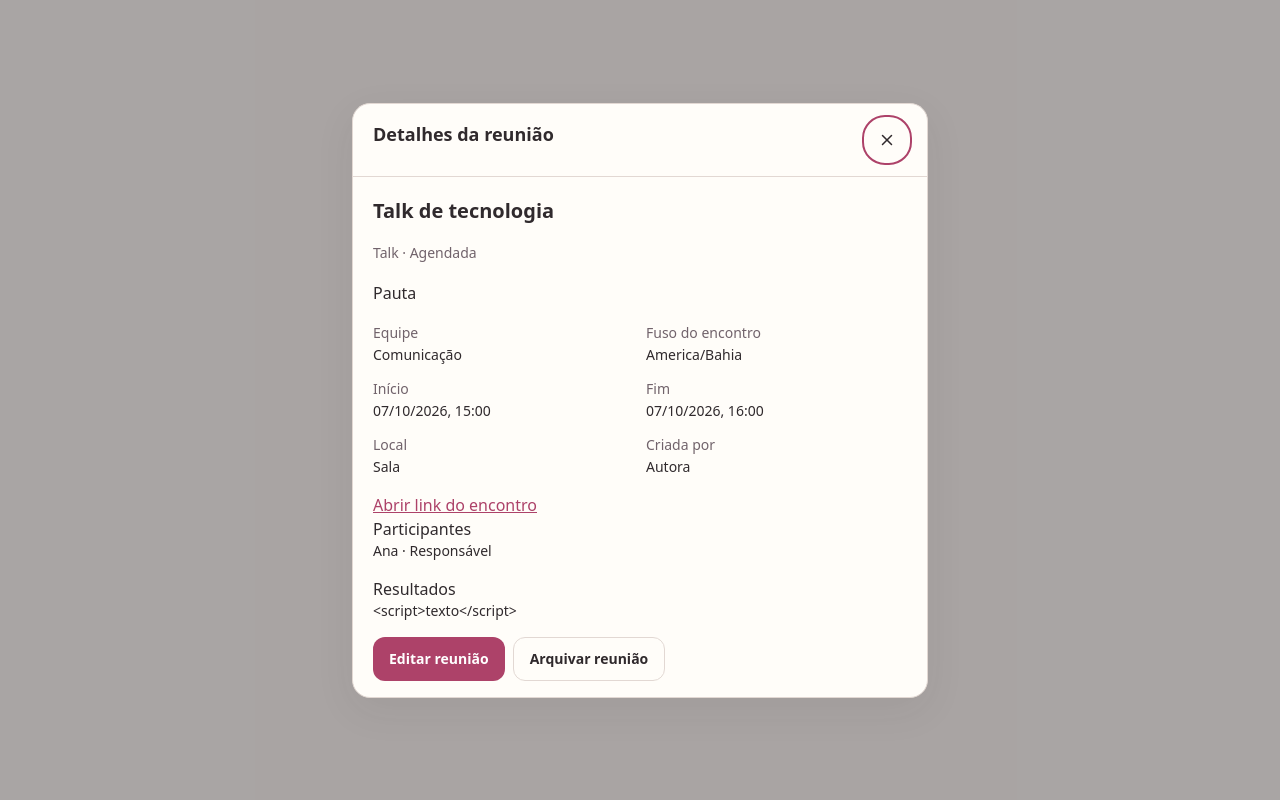
Test: conflito preserva formulário e resultado textual não vira HTML
Expected: the text "<script>texto</script>" is shown, [373,600,517,620]
Click the button "Editar reunião". click: (439, 658)
box: [373,636,505,680]
(page scrolled)
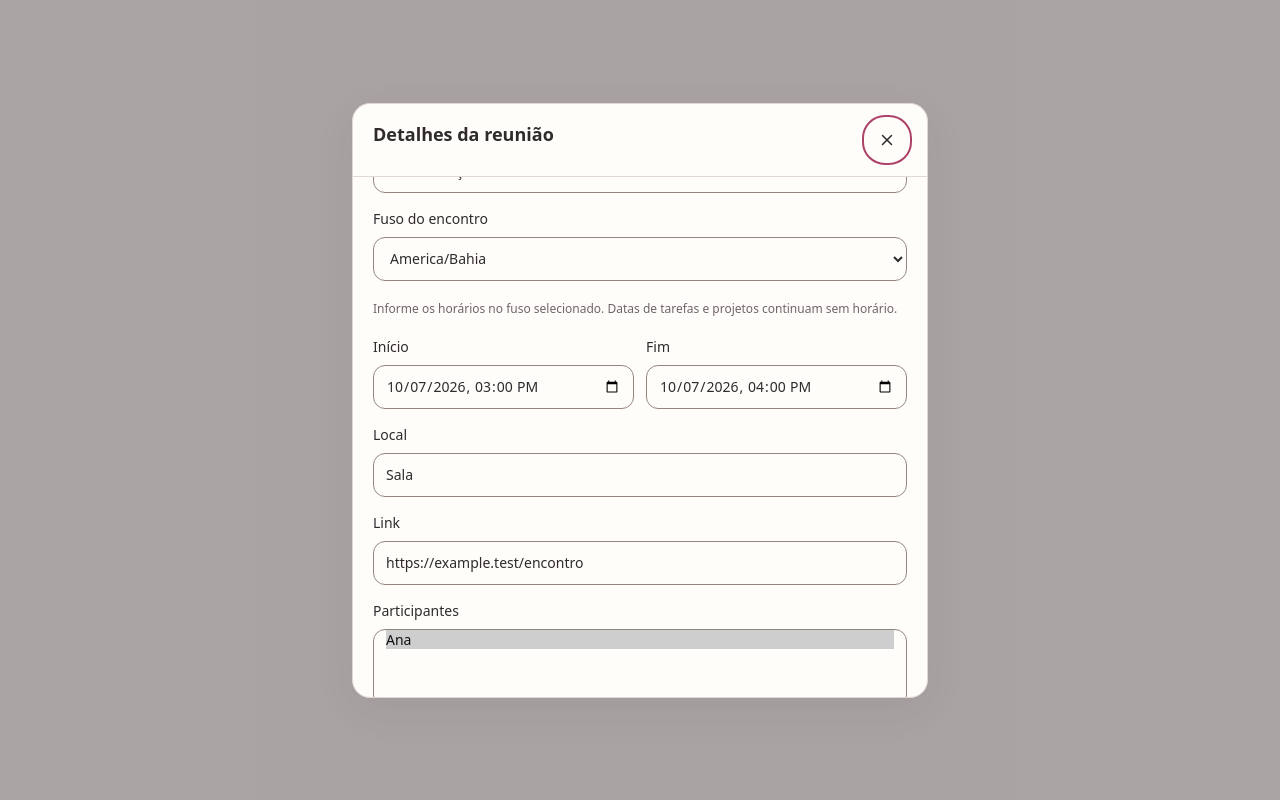
Submit the form named "Salvar reunião"
(page scrolled)
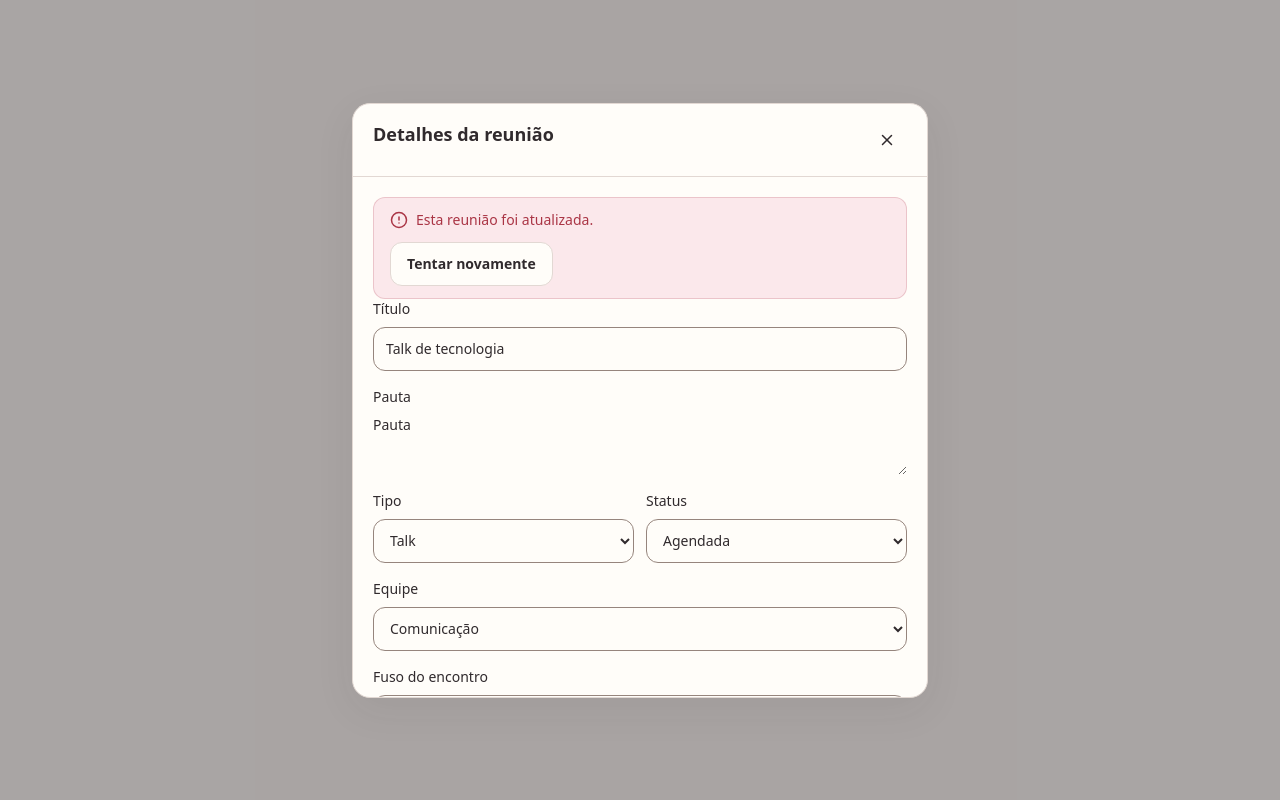
Expected: the text "Esta reunião foi atualizada." is shown, [390,210,593,228]
Expected: the field labelled "Título" is shown, [373,326,907,370]
